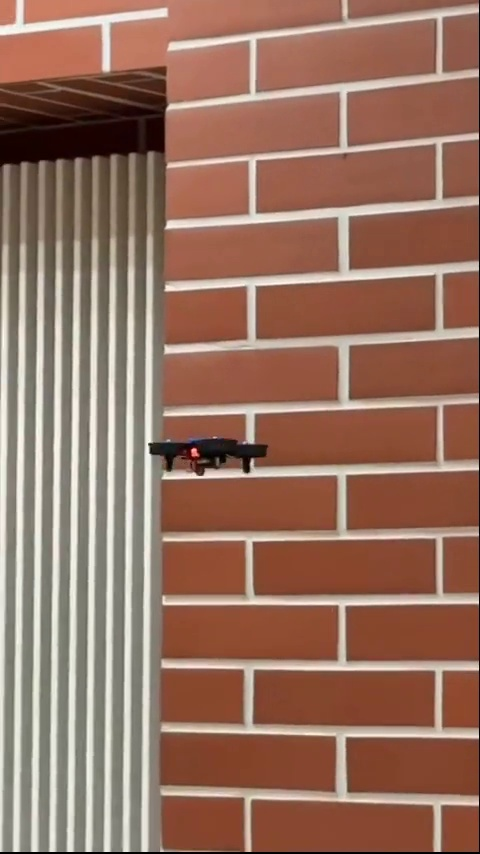drone: (147, 429, 272, 479)
